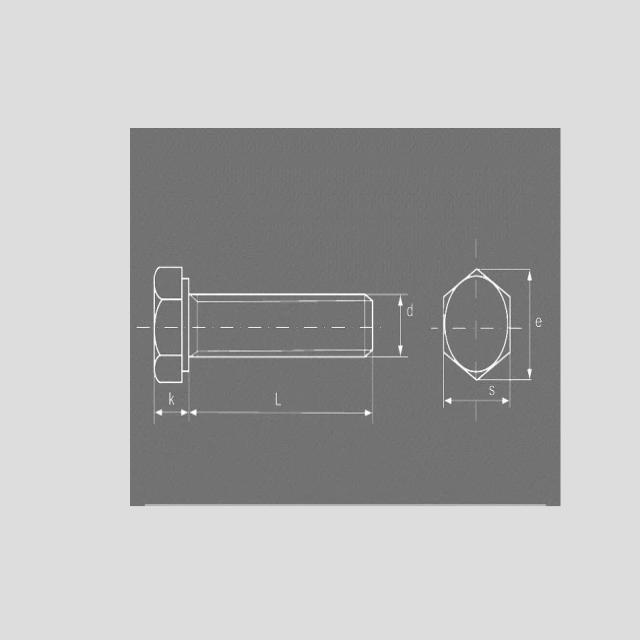marking_line: (190, 408, 371, 420), (396, 295, 414, 357), (527, 271, 534, 376), (446, 395, 509, 405), (153, 409, 188, 417)
